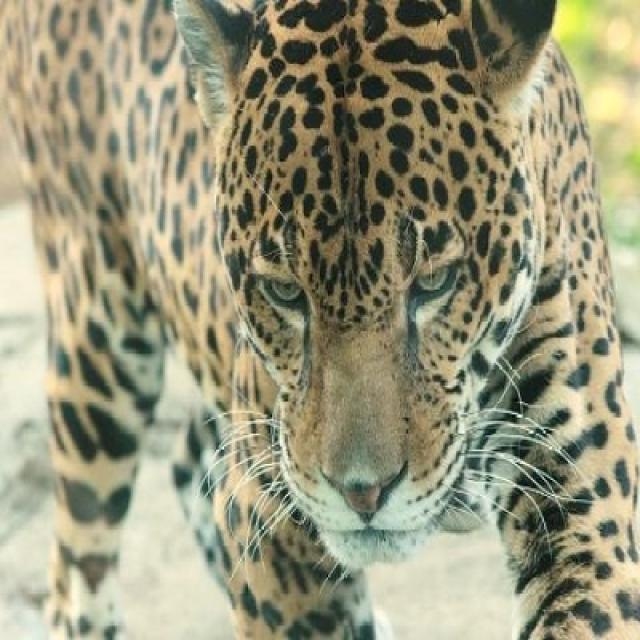Jaguar: (54, 0, 638, 638)
